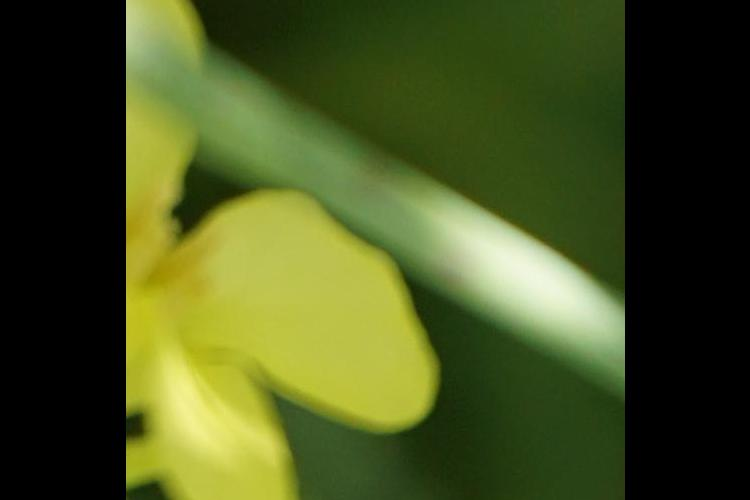yellow: (156, 164, 434, 500)
